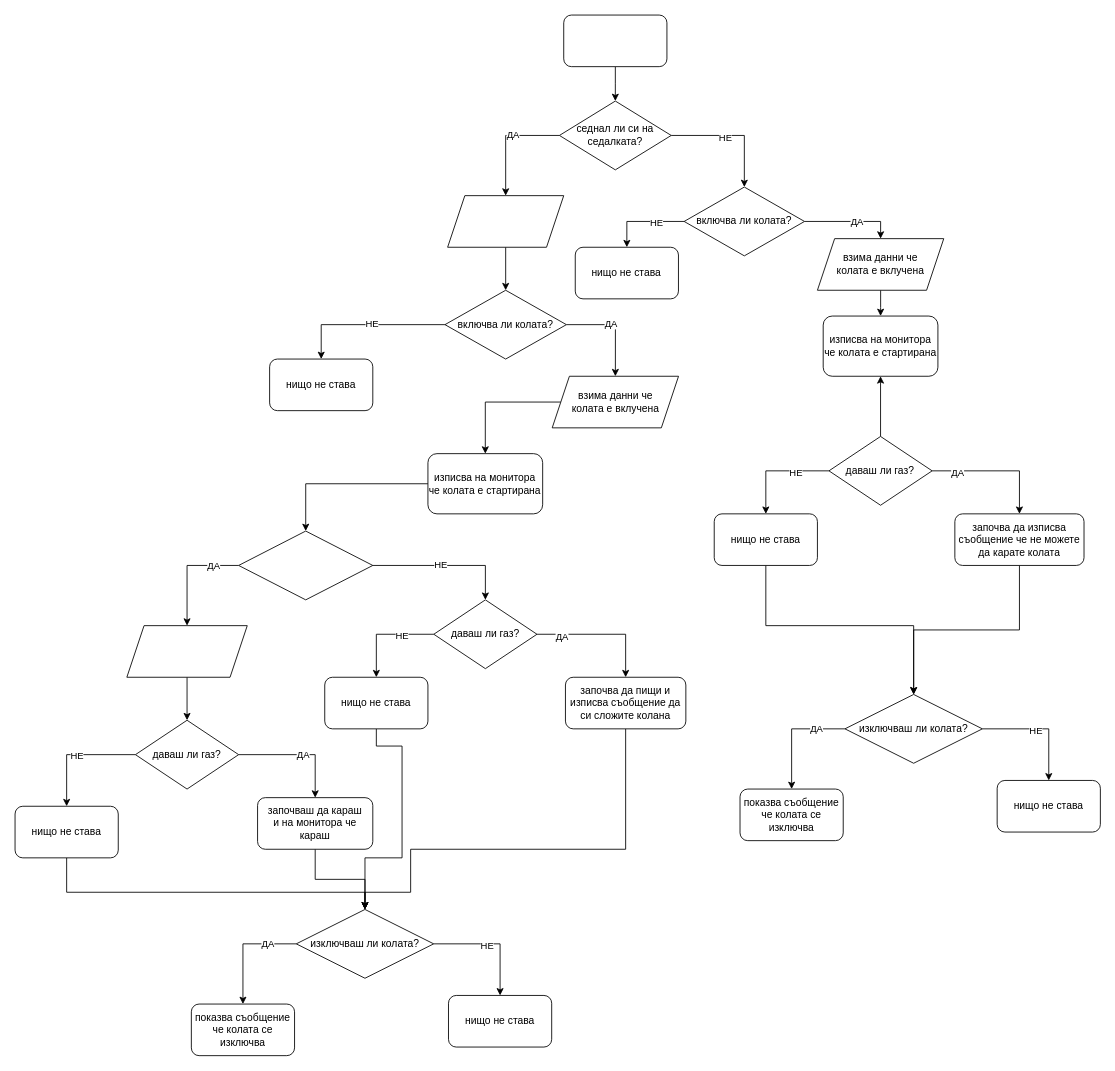
Image size: 1115x1071. Some labels were removed from this diagram. Each missing label, with the centre of its shape:
"взима данни от сензора за тежест" goes at (x=505, y=221).
"взима данни че колана е сложен" goes at (x=186, y=651).
"Отваряш вратата на колата" goes at (x=615, y=40).
"сложил ли си колана?" goes at (x=305, y=565).
